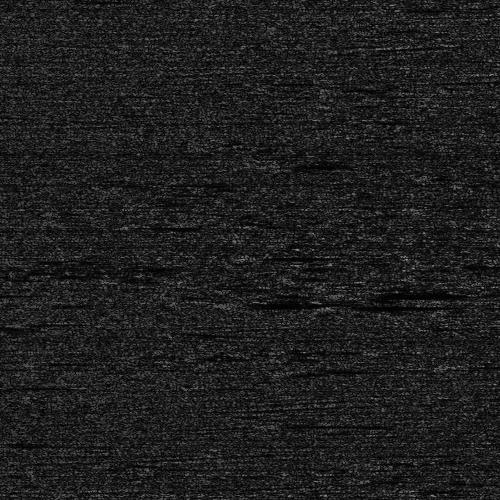rock: (310, 303, 363, 308), (207, 301, 248, 306), (250, 423, 271, 426)
shadow: (228, 301, 417, 306), (337, 303, 437, 308), (261, 423, 356, 426), (266, 254, 329, 257)
